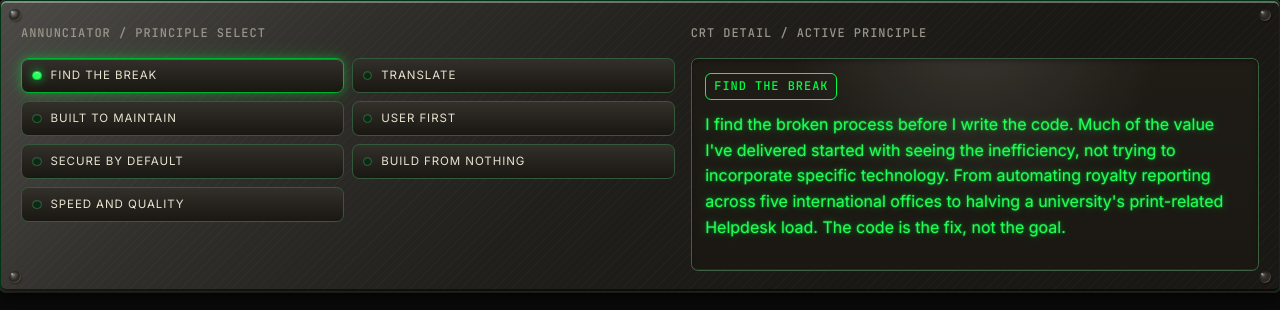
Test: OperatingPrinciplesPanel › supports arrow-key navigation with radio semantics
Click the radio button labelled "FIND THE BREAK" at [104, 75], box x1=21 y1=58 x2=344 y2=93
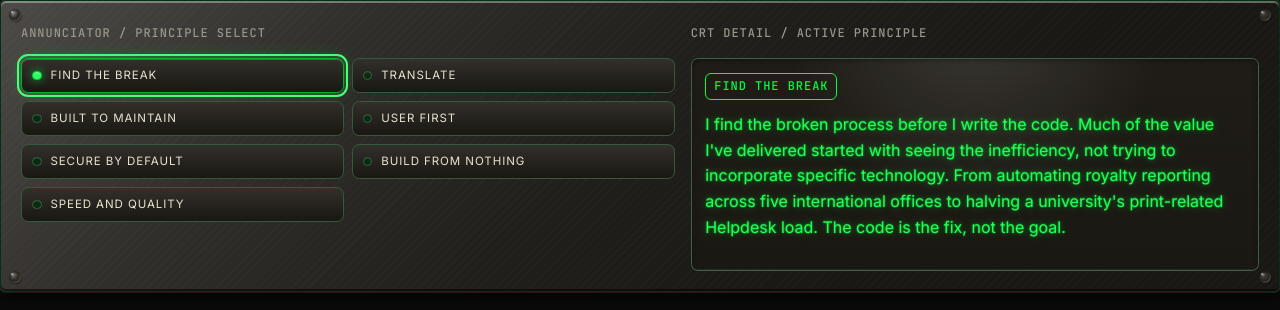
Press Arrowright
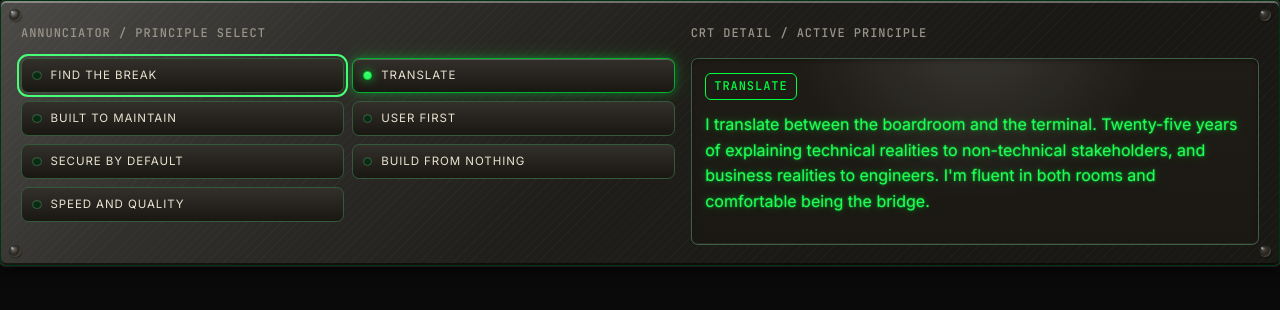
Result: the text "I translate between the boardroom and the terminal." is shown at x1=705 y1=114 x2=1237 y2=211
